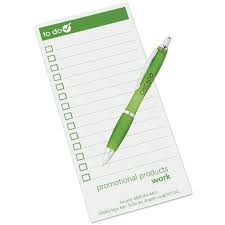pen: (94, 31, 171, 169)
